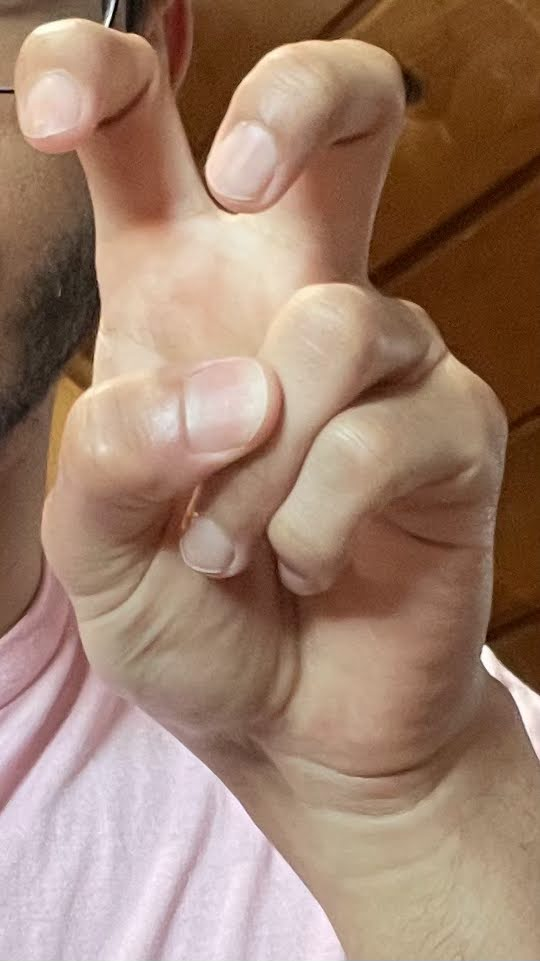pizza: (9, 14, 509, 823)
